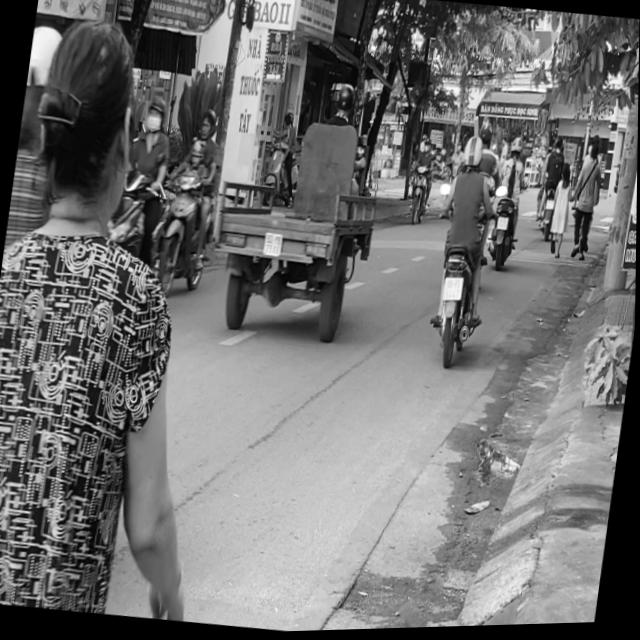helmet: (142, 94, 167, 134), (459, 135, 484, 173)
licenseplate: (420, 120, 507, 369), (150, 101, 229, 298)
motorcyclist: (196, 106, 219, 143)
nohelmet: (441, 279, 463, 304)
